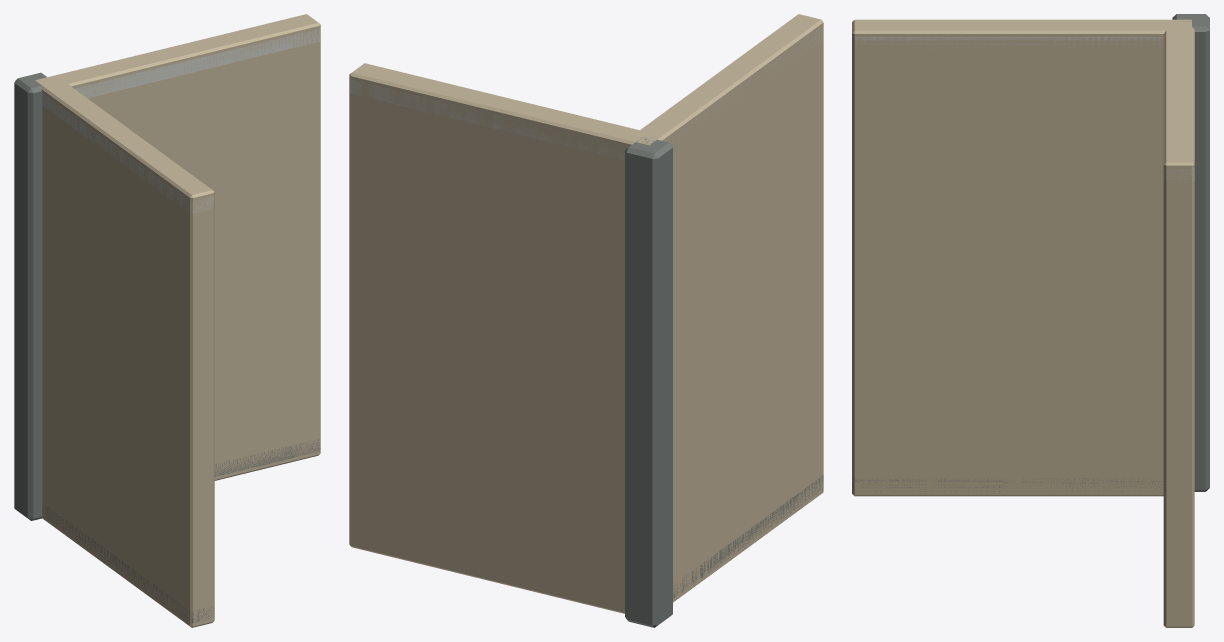
The model's file is architecture-corner-outer.lod0.glb.
The picture shows the model from 3 angles, left to right: view 1: azimuth 30°, elevation 25°; view 2: azimuth 150°, elevation 25°; view 3: azimuth 270°, elevation 25°; orthographic projection. The views are drawn at different scales.
Visible parts, largest first — view 1: architecture-corner-outer__body; view 2: architecture-corner-outer__body; view 3: architecture-corner-outer__body.
Part boxes in pixels (x1,y1,x2,y2): architecture-corner-outer__body: (14, 14, 320, 627); architecture-corner-outer__body: (349, 14, 823, 627); architecture-corner-outer__body: (852, 14, 1209, 627).
Bounding box in the file's own units: 2.09 × 3 × 2.09.
